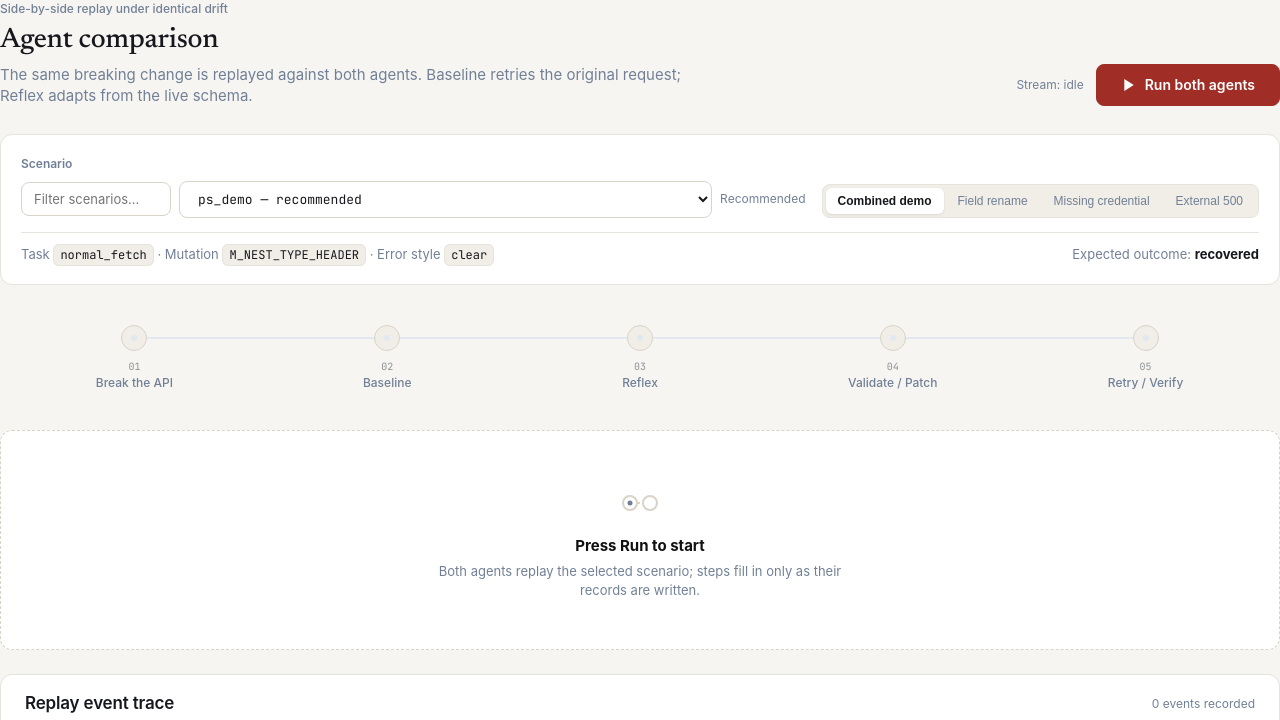
it: Comparison page › shows changing flows from records only: refusal has no retry card
Click the button "Run both agents": click(1188, 85) [1096,64,1279,106]
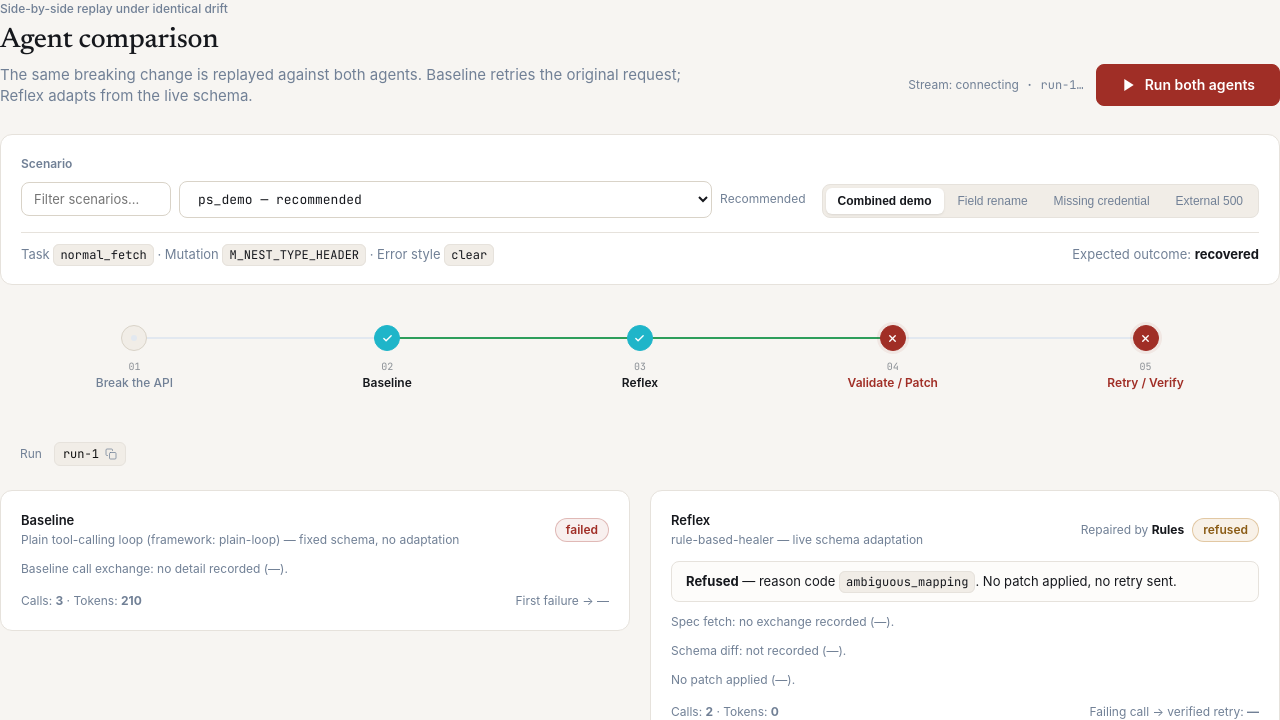
Expected: the text "Refused" is shown, [686,573,739,589]
Expected: the text "No patch applied" is shown, [975,573,1177,589]
